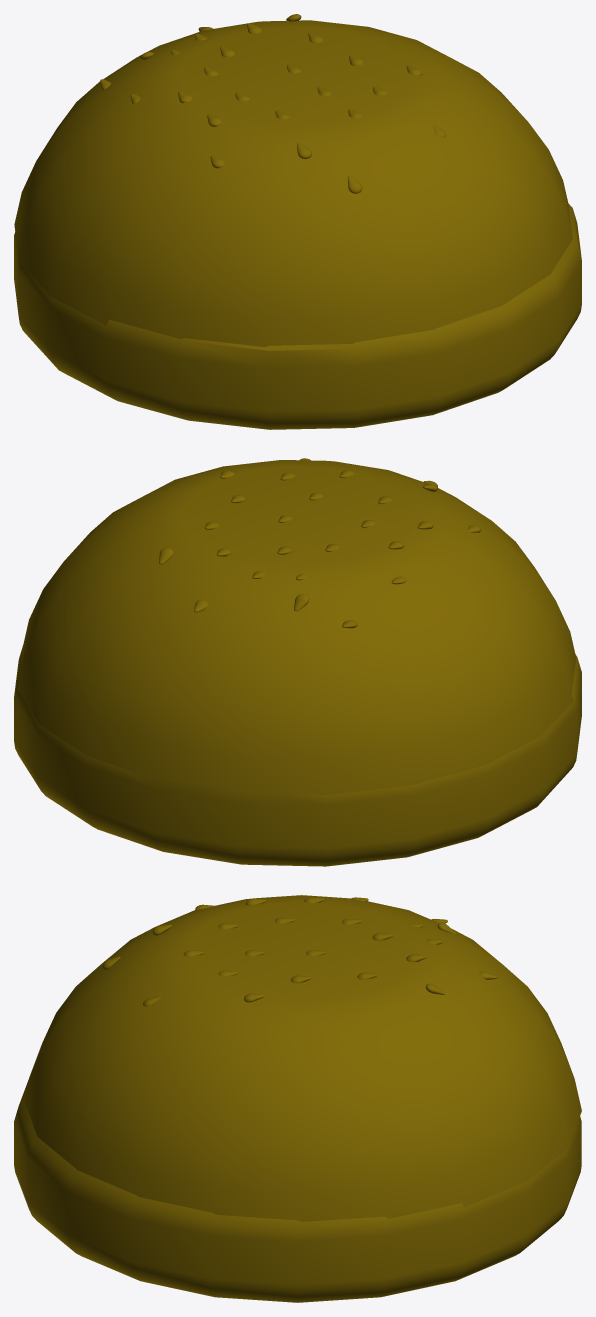
File: pan.fbx
3 renders of one model, top to bottom at view 1: azimuth 30°, elevation 25°; view 2: azimuth 150°, elevation 25°; view 3: azimuth 270°, elevation 25°, orthographic.
Parts seen in each view (by area): view 1: pCylinder36; view 2: pCylinder36; view 3: pCylinder36.
Boxes of the visible parts, left/top/right/bottom form: pCylinder36: left=14, top=14, right=581, bottom=429; pCylinder36: left=14, top=458, right=581, bottom=866; pCylinder36: left=14, top=895, right=581, bottom=1302.
Size of the model in its own units: 0.7284 by 0.3474 by 0.7286.
